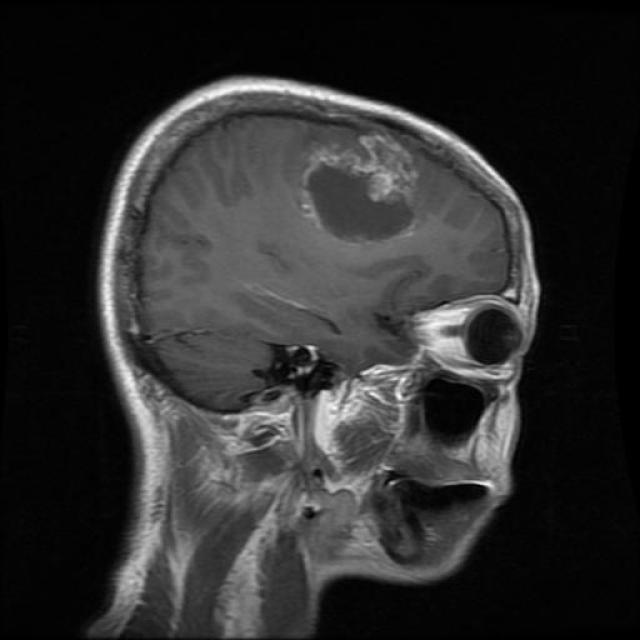glioma: (305, 116, 417, 236)
